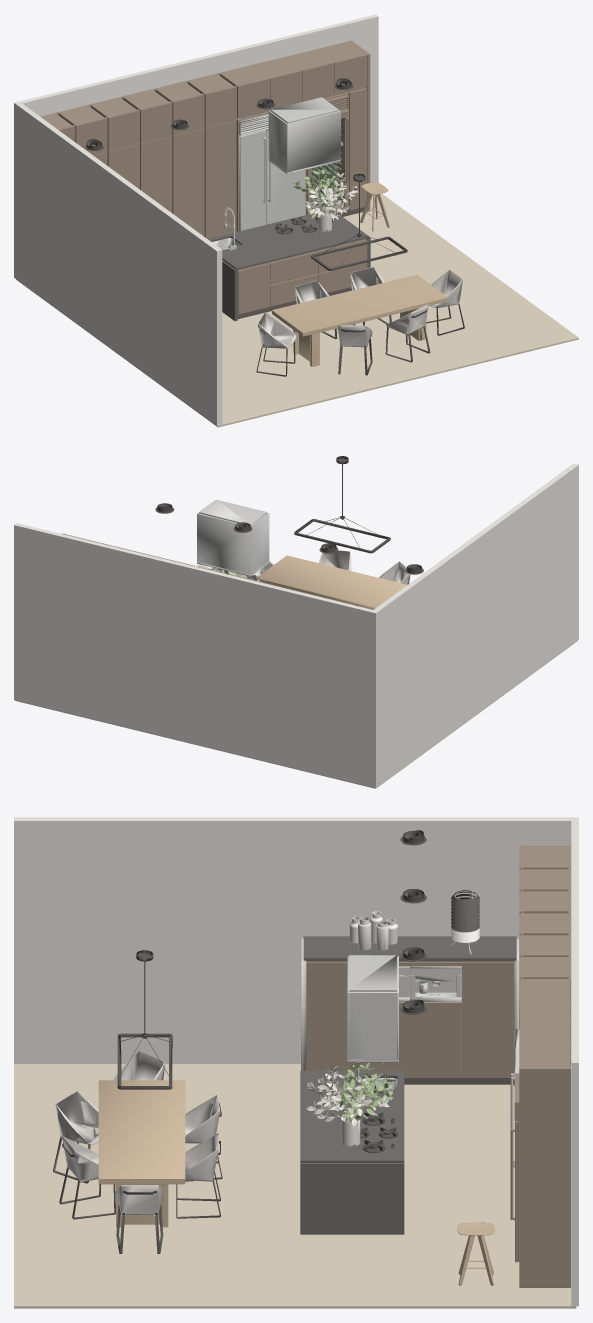
Rendered from bep-dao-go-soi.glb.
3 views of the same model, one above another, from view 1: azimuth 30°, elevation 25°; view 2: azimuth 150°, elevation 25°; view 3: azimuth 270°, elevation 25° (orthographic). The views are drawn at different scales.
Visible parts, largest first — view 1: wall, cabinet, floor, steel, tableWood, counter, fabric, black, decor, leaf, bottle; view 2: wall, steel, tableWood, black, fabric, floor; view 3: wall, floor, cabinet, counter, tableWood, steel, fabric, black, decor, ceramic, leaf, plinth.
Boxes of the visible parts, bbox=[...] form: wall: bbox=[14, 14, 378, 425]; cabinet: bbox=[40, 40, 370, 314]; floor: bbox=[16, 193, 578, 427]; steel: bbox=[212, 97, 340, 250]; tableWood: bbox=[272, 182, 447, 366]; counter: bbox=[208, 209, 370, 320]; fabric: bbox=[258, 267, 462, 348]; black: bbox=[85, 78, 464, 376]; decor: bbox=[306, 173, 358, 220]; leaf: bbox=[293, 169, 344, 218]; bottle: bbox=[311, 162, 338, 207]; wall: bbox=[14, 463, 578, 787]; steel: bbox=[197, 499, 269, 576]; tableWood: bbox=[256, 555, 407, 609]; black: bbox=[155, 456, 423, 574]; fabric: bbox=[245, 550, 410, 584]; floor: bbox=[15, 564, 577, 788]; wall: bbox=[14, 817, 578, 1306]; floor: bbox=[14, 1064, 576, 1308]; cabinet: bbox=[306, 845, 570, 1287]; counter: bbox=[300, 936, 516, 1234]; tableWood: bbox=[98, 1080, 495, 1285]; steel: bbox=[347, 955, 519, 1167]; fabric: bbox=[55, 1051, 220, 1216]; black: bbox=[53, 830, 479, 1253]; decor: bbox=[301, 938, 519, 1127]; ceramic: bbox=[341, 891, 479, 1146]; leaf: bbox=[339, 1062, 396, 1145]; plinth: bbox=[404, 1077, 513, 1084].
Size of the model in its own units: 6.72 by 3.13 by 6.53.
